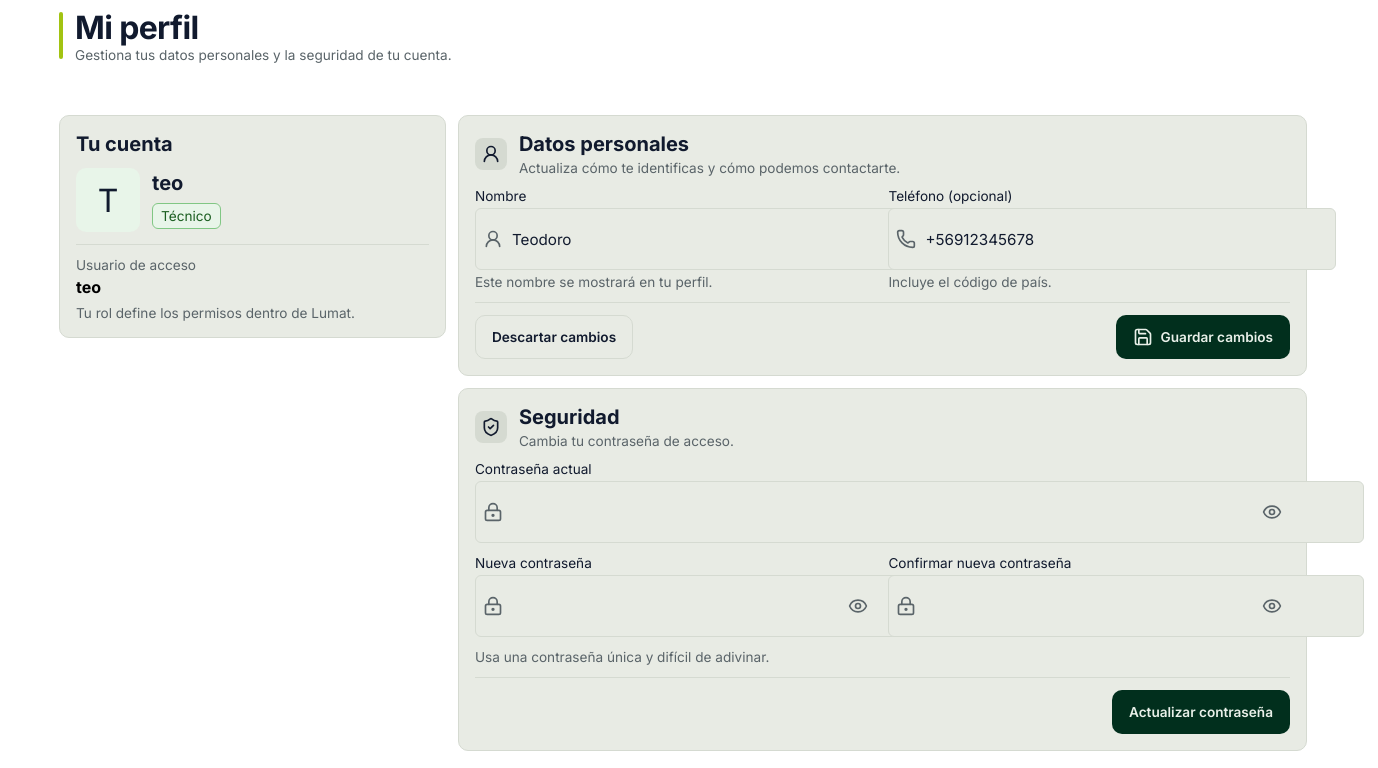
Test: SelfProfile › saves only name and phone, mapping a cleared field to null
This screenshot has width=1378, height=768.
Clear the field labelled "Nombre" at point(699, 239), box [475, 208, 922, 270]
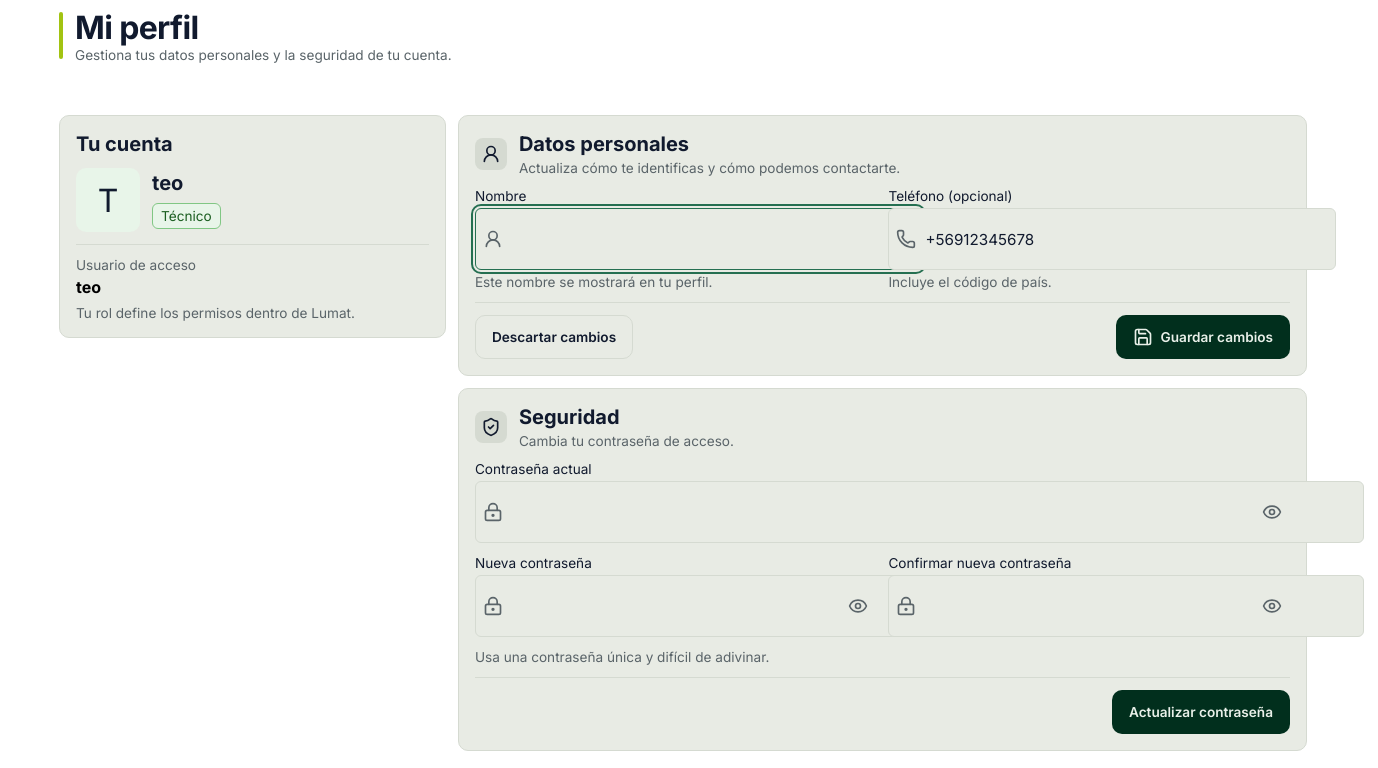
Click the button "Guardar cambios" at point(1203, 337), box [1116, 315, 1290, 359]
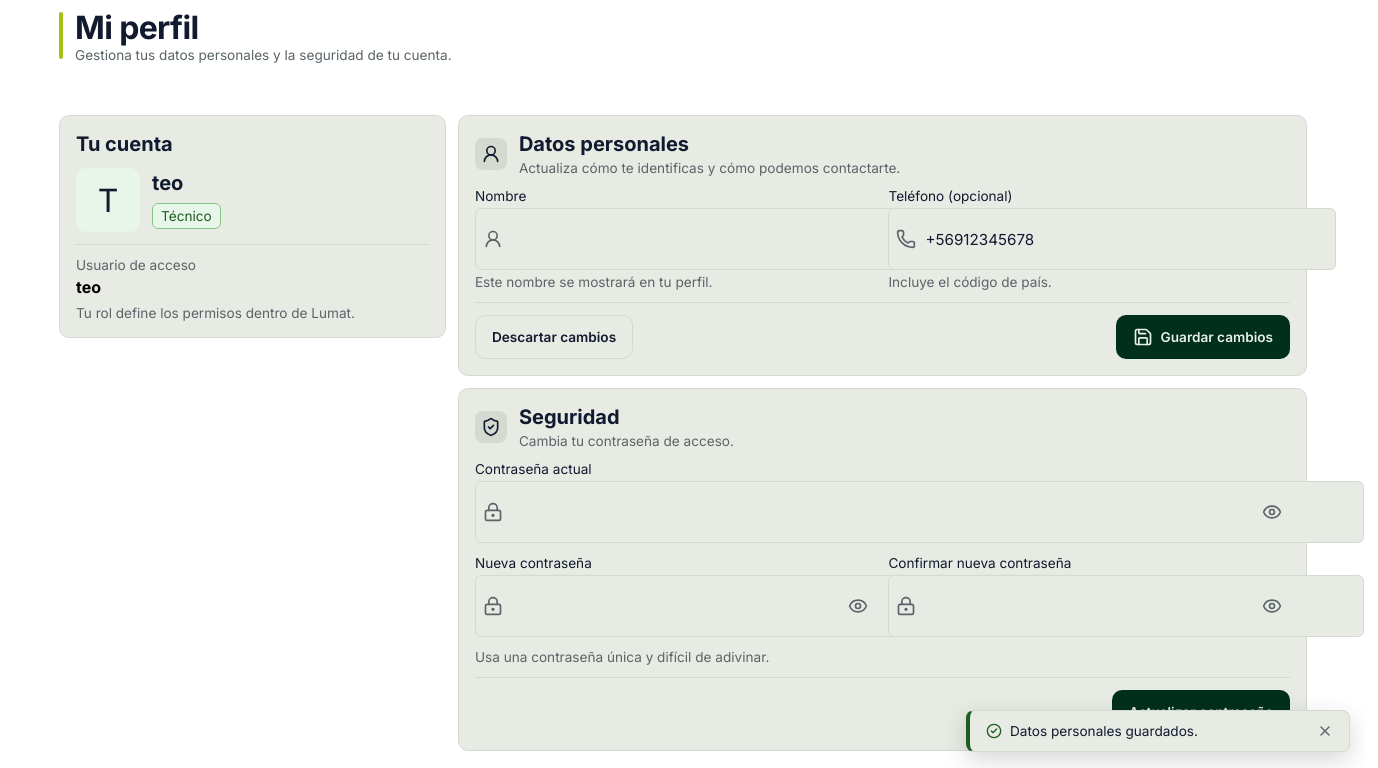
Now the text "Datos personales guardados." is shown, box [1010, 723, 1198, 739]
